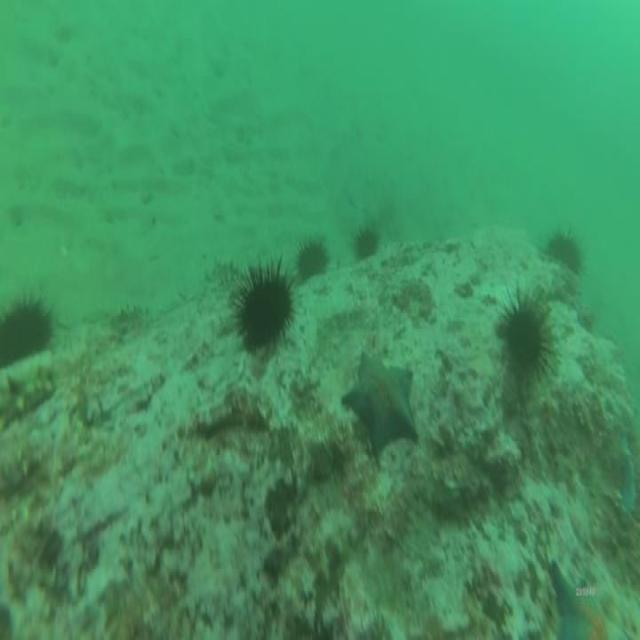echinus: (236, 269, 292, 346), (1, 305, 52, 367), (506, 305, 543, 368), (546, 231, 580, 272), (295, 242, 326, 278), (355, 229, 376, 261)
starfish: (344, 356, 420, 452), (550, 556, 611, 640)
